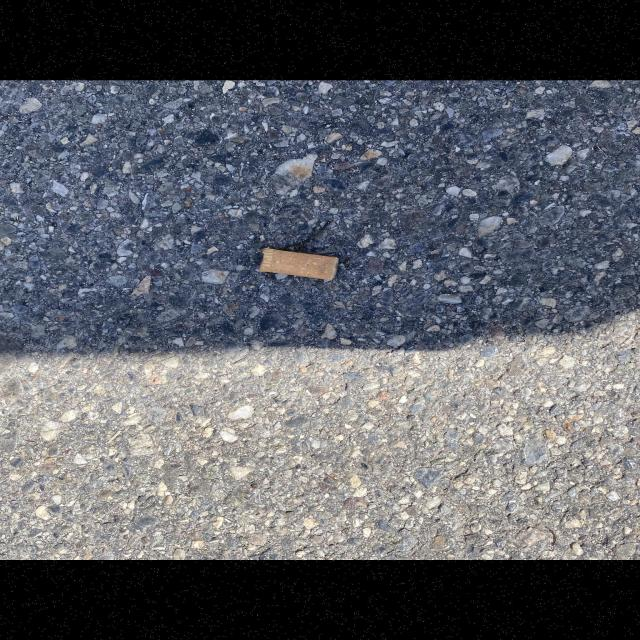other waste: (254, 246, 341, 282)
